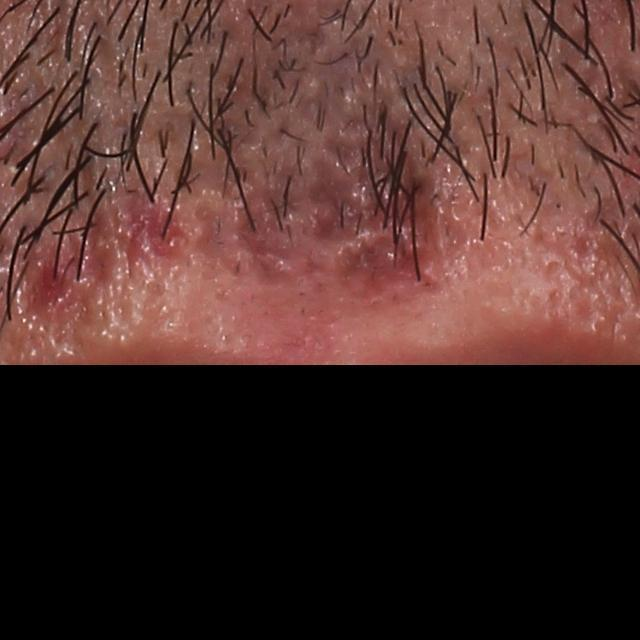atrophic_scar: (311, 110, 434, 249), (339, 231, 437, 310), (237, 181, 306, 281), (17, 255, 89, 324), (192, 195, 240, 267), (82, 197, 118, 292)
